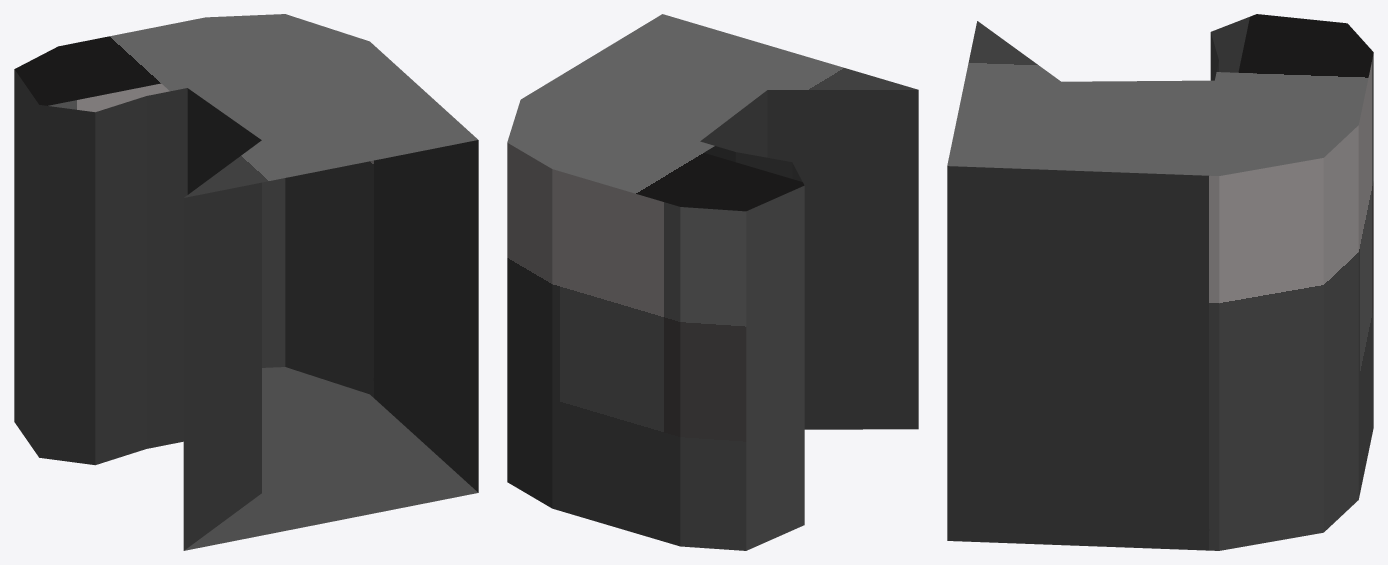
Rendered from knuckle.obj.
3 views of the same model, side by side, from view 1: azimuth 30°, elevation 25°; view 2: azimuth 150°, elevation 25°; view 3: azimuth 270°, elevation 25° (orthographic). The views are drawn at different scales.
Visible parts, largest first — view 1: 钩舌_e12a83f9-ca40-f5f9-0e50-29789b69e8d5; view 2: 钩舌_e12a83f9-ca40-f5f9-0e50-29789b69e8d5; view 3: 钩舌_e12a83f9-ca40-f5f9-0e50-29789b69e8d5.
Part boxes in pixels (x1,y1,x2,y2): 钩舌_e12a83f9-ca40-f5f9-0e50-29789b69e8d5: (14, 14, 478, 550); 钩舌_e12a83f9-ca40-f5f9-0e50-29789b69e8d5: (507, 14, 918, 550); 钩舌_e12a83f9-ca40-f5f9-0e50-29789b69e8d5: (947, 14, 1373, 550).
Bounding box in the file's own units: 0.171 × 0.1843 × 0.1901.
